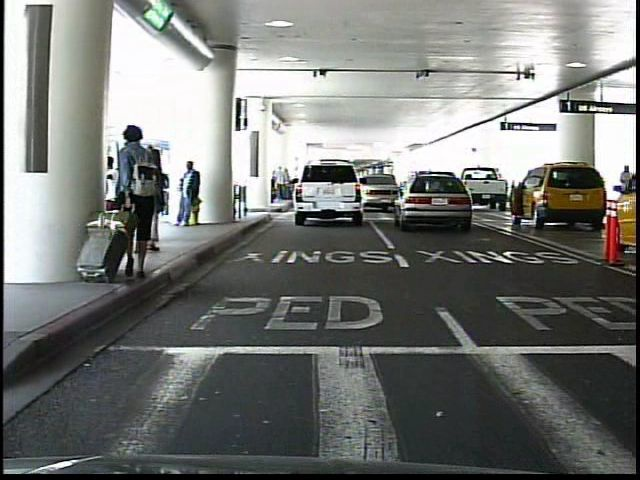person: (115, 123, 166, 285), (140, 145, 168, 239), (176, 158, 205, 231), (615, 163, 631, 214)
